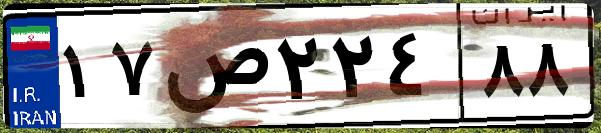1: (57, 26, 110, 100)
2: (270, 28, 330, 110), (330, 28, 385, 110)
4: (385, 28, 445, 110)
7: (110, 28, 158, 98)
8: (475, 38, 525, 113), (525, 38, 570, 115)
ص: (158, 20, 270, 120)
